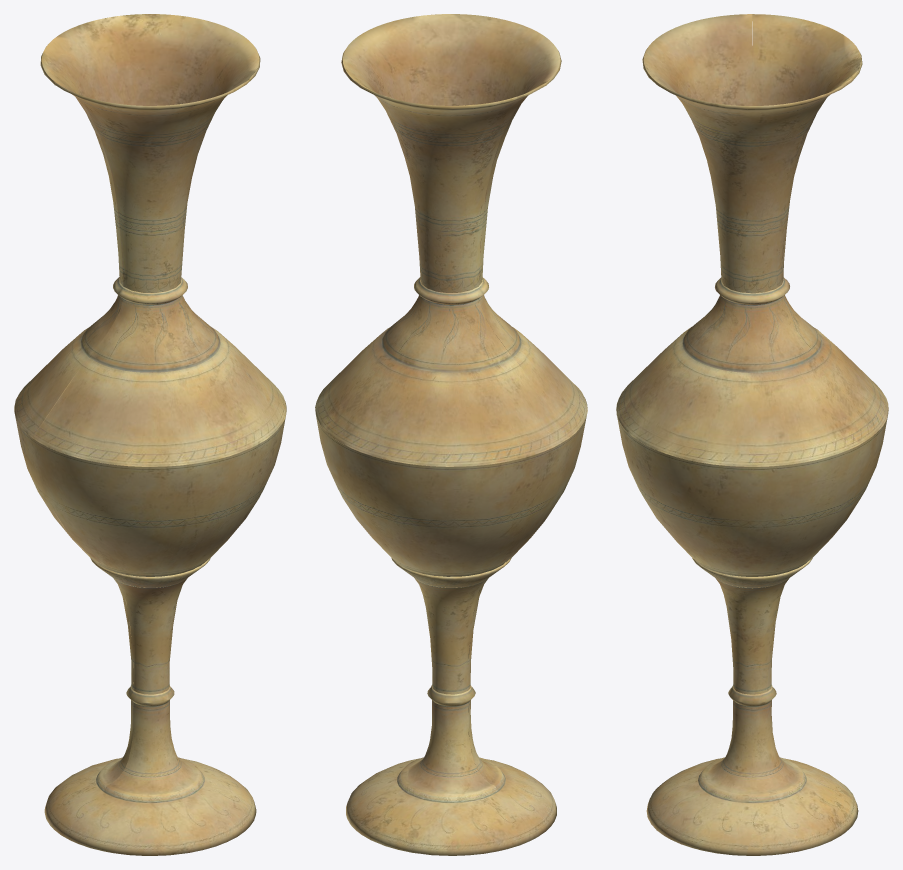
Rendered from lobby_vase.glb.
The picture shows the model from 3 angles, left to right: view 1: azimuth 30°, elevation 25°; view 2: azimuth 150°, elevation 25°; view 3: azimuth 270°, elevation 25°; orthographic projection.
Parts seen in each view (by area): view 1: brass_vase_01; view 2: brass_vase_01; view 3: brass_vase_01.
Part boxes in pixels (left/top/right/bottom): brass_vase_01: left=14, top=14, right=286, bottom=855; brass_vase_01: left=315, top=14, right=587, bottom=855; brass_vase_01: left=616, top=14, right=888, bottom=855.
Size of the model in its own units: 0.2278 by 0.6926 by 0.2276.
Materials: 1 (1 with a texture image).
